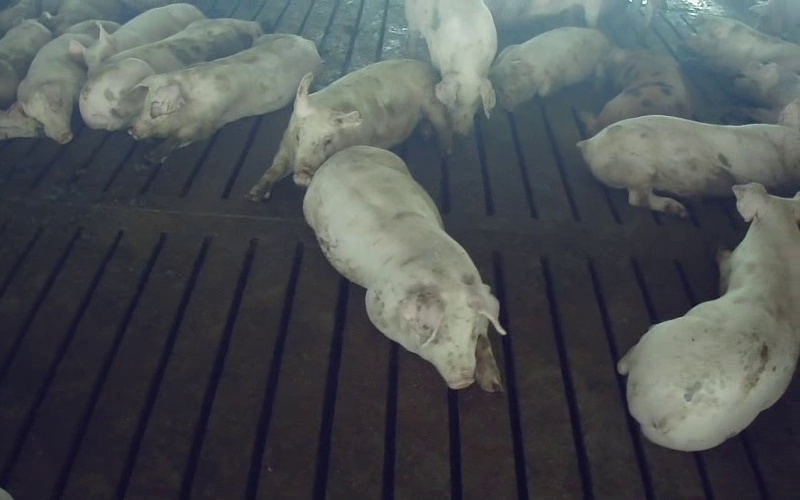pig: (304, 146, 504, 390), (618, 183, 799, 450), (249, 59, 451, 201), (577, 115, 799, 215), (79, 18, 261, 130), (17, 20, 119, 143), (405, 0, 496, 134), (489, 27, 610, 110), (587, 48, 692, 134), (70, 3, 204, 68)
